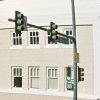Traffic light: (11, 4, 66, 52)
